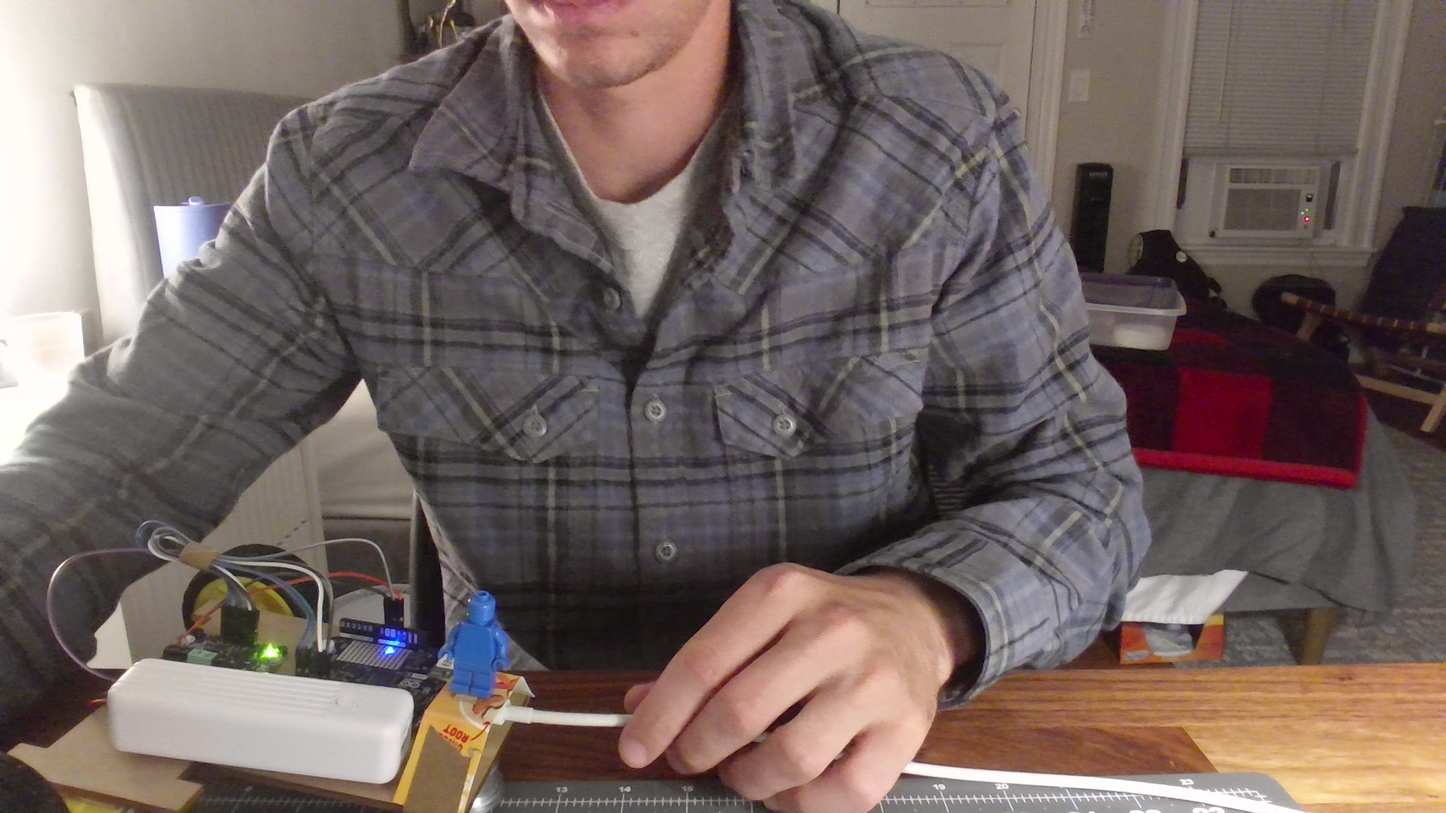Training-dataset-2: (435, 589, 523, 704)
